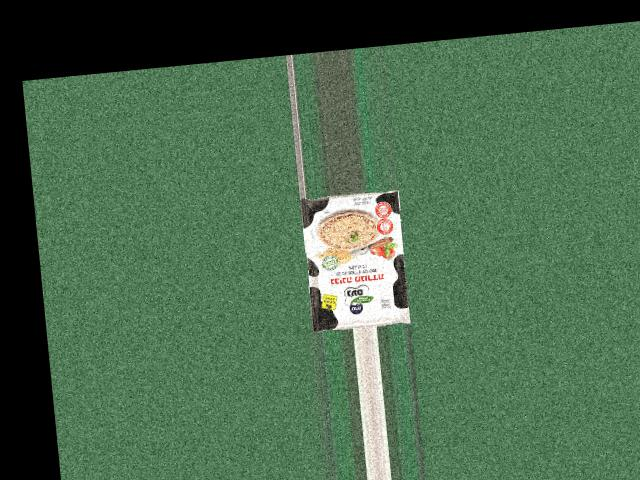cheese: (298, 194, 426, 322)
